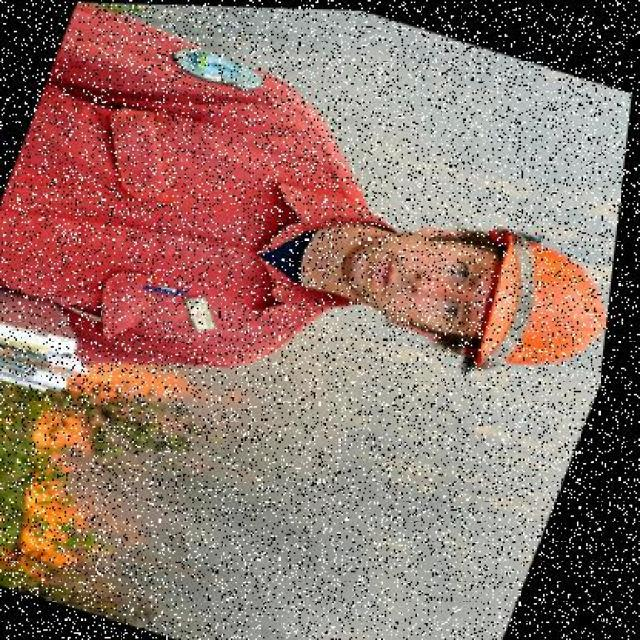helmet: (454, 220, 620, 400)
vest: (0, 3, 427, 423)
